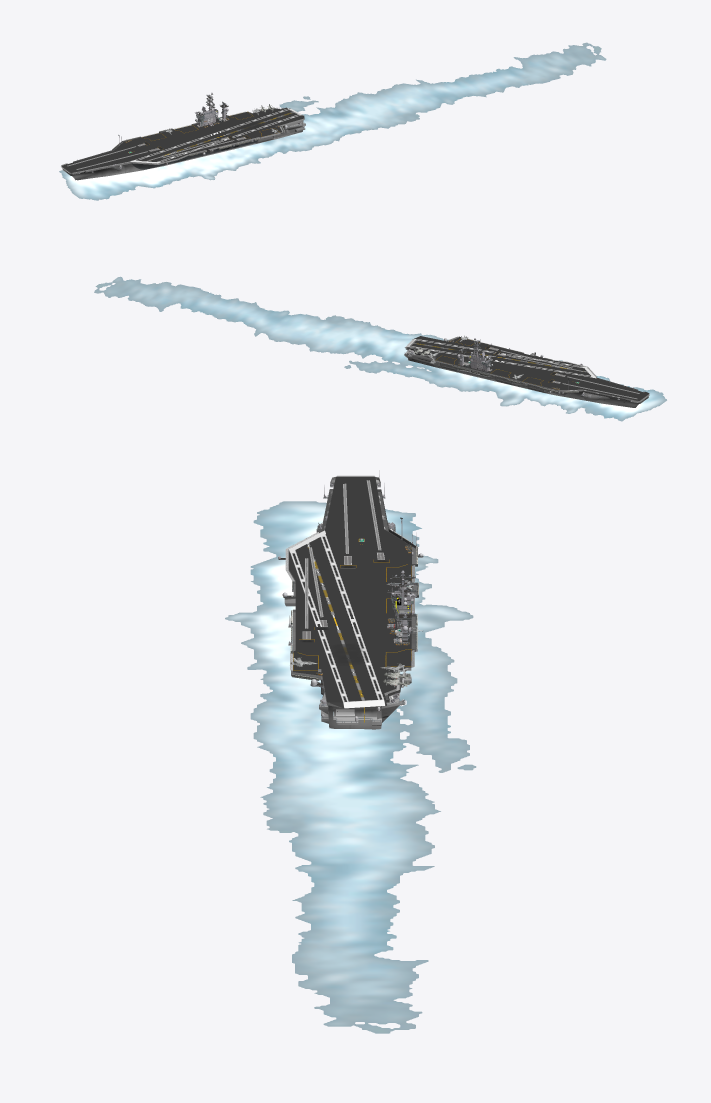
The model's file is nimitz.glb.
The picture shows the model from 3 angles, top to bottom: view 1: azimuth 30°, elevation 25°; view 2: azimuth 150°, elevation 25°; view 3: azimuth 270°, elevation 25°; orthographic projection. The views are drawn at different scales.
Visible parts, largest first — view 1: Wake, deck-5-surf, Deck-4, Hull-Port, Sponson-Port, Deck-Underside; view 2: Wake, deck-5-surf, Deck-4, Hull_Stbd; view 3: Wake, deck-5-surf, Deck-4.
Part boxes in pixels (bbox=[...]): Wake: bbox=[59, 42, 606, 200]; deck-5-surf: bbox=[62, 108, 304, 172]; Deck-4: bbox=[130, 108, 300, 163]; Hull-Port: bbox=[66, 120, 303, 180]; Sponson-Port: bbox=[131, 140, 257, 169]; Deck-Underside: bbox=[61, 118, 304, 173]; Wake: bbox=[94, 276, 666, 421]; deck-5-surf: bbox=[409, 336, 648, 400]; Deck-4: bbox=[409, 339, 596, 378]; Hull_Stbd: bbox=[408, 357, 644, 407]; Wake: bbox=[225, 501, 476, 1033]; deck-5-surf: bbox=[288, 476, 411, 702]; Deck-4: bbox=[289, 530, 384, 702].
Bounding box in the file's own units: 872 × 60.76 × 169.
104 materials, 86 textured.
